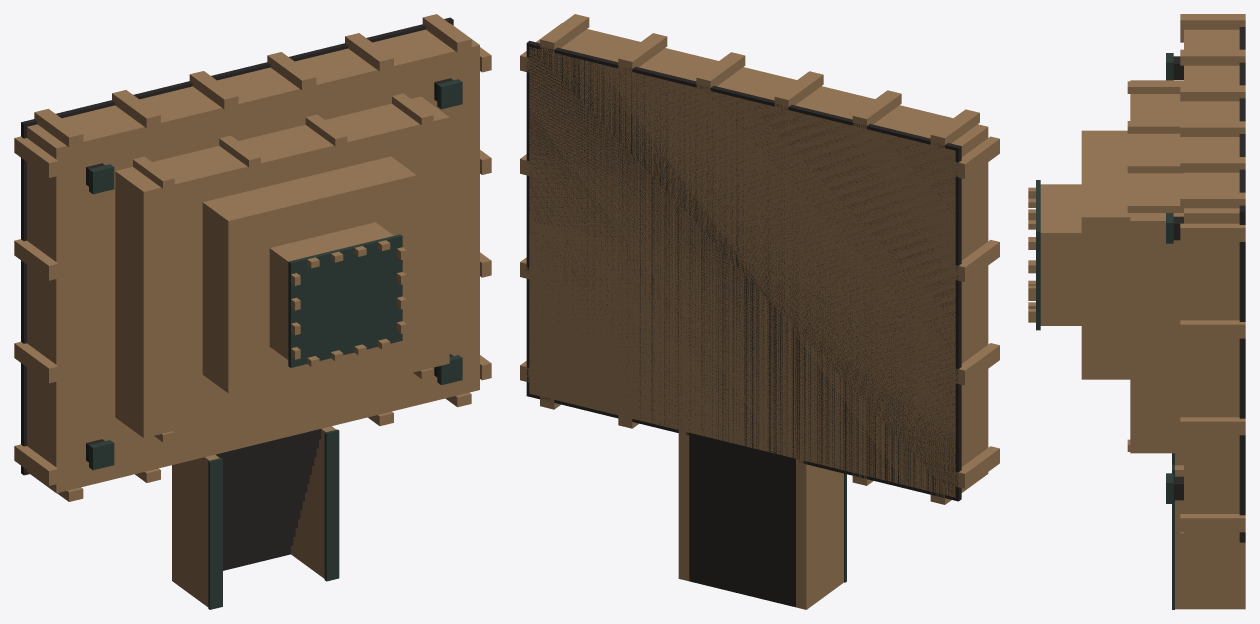
File: SM_Monolithic_Citadel_Ziggurat.obj
3 renders of one model, left to right at view 1: azimuth 30°, elevation 25°; view 2: azimuth 150°, elevation 25°; view 3: azimuth 270°, elevation 25°, orthographic. The views are drawn at different scales.
Parts seen in each view (by area): view 1: SM_Monolithic_Citadel_Ziggurat; view 2: SM_Monolithic_Citadel_Ziggurat; view 3: SM_Monolithic_Citadel_Ziggurat.
Boxes of the visible parts, x1=… form: SM_Monolithic_Citadel_Ziggurat: x1=14, y1=14, x2=491, y2=609; SM_Monolithic_Citadel_Ziggurat: x1=520, y1=14, x2=999, y2=609; SM_Monolithic_Citadel_Ziggurat: x1=1028, y1=14, x2=1245, y2=609.
Bounding box in the file's own units: 3760 × 4080 × 1695.
